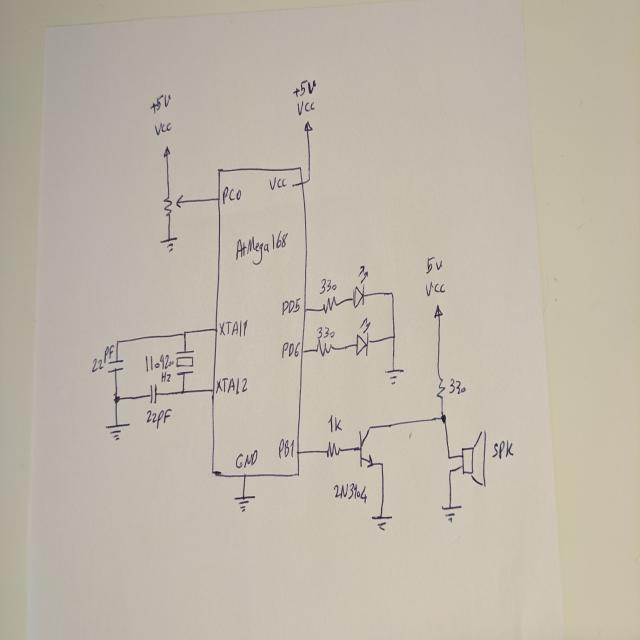capacitor: (108, 357, 124, 373), (149, 381, 158, 406)
diode: (352, 263, 368, 309), (355, 316, 371, 358)
ground: (368, 509, 394, 533), (104, 420, 130, 440), (440, 501, 462, 523), (233, 491, 255, 512), (158, 232, 178, 254), (384, 366, 404, 385)
junction: (112, 392, 120, 404), (439, 412, 446, 424), (181, 328, 188, 338), (180, 386, 186, 395), (389, 289, 394, 299), (390, 332, 396, 340), (379, 459, 384, 468), (447, 452, 451, 461), (448, 467, 452, 474), (116, 338, 120, 344), (307, 176, 311, 182)
resistor: (163, 192, 184, 217), (320, 294, 338, 314), (316, 338, 334, 357), (435, 372, 446, 402), (325, 439, 341, 458)
source: (162, 143, 172, 160), (433, 302, 443, 319), (304, 119, 313, 134)
text: (235, 228, 287, 270), (332, 479, 368, 504), (144, 352, 174, 382), (216, 374, 248, 395), (91, 343, 112, 373), (219, 317, 248, 338), (145, 406, 171, 429), (150, 90, 171, 115), (491, 438, 514, 460), (235, 448, 258, 468), (292, 78, 316, 97), (281, 296, 301, 316), (281, 339, 300, 359), (278, 436, 294, 459), (222, 184, 241, 203), (425, 280, 445, 298), (268, 174, 287, 192), (425, 255, 443, 274), (318, 276, 337, 294), (448, 376, 466, 394), (295, 100, 315, 116), (328, 413, 342, 434), (154, 120, 172, 136), (316, 324, 335, 339)
transistor: (357, 423, 374, 470)
